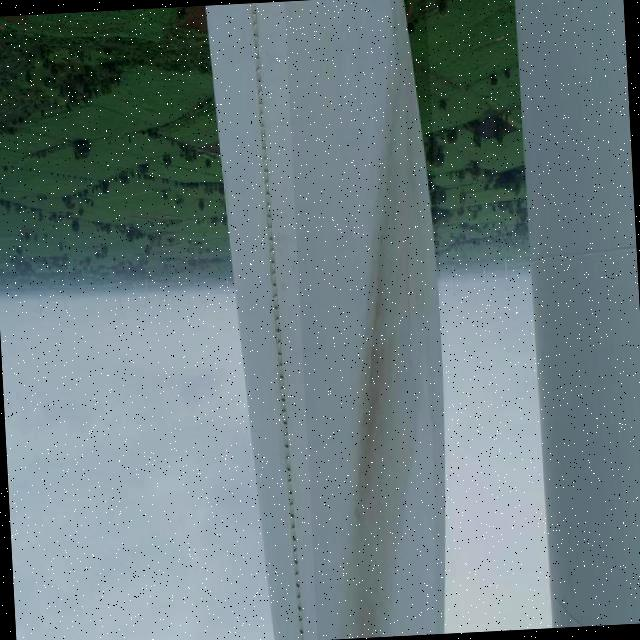Dirt: (350, 8, 435, 638)
